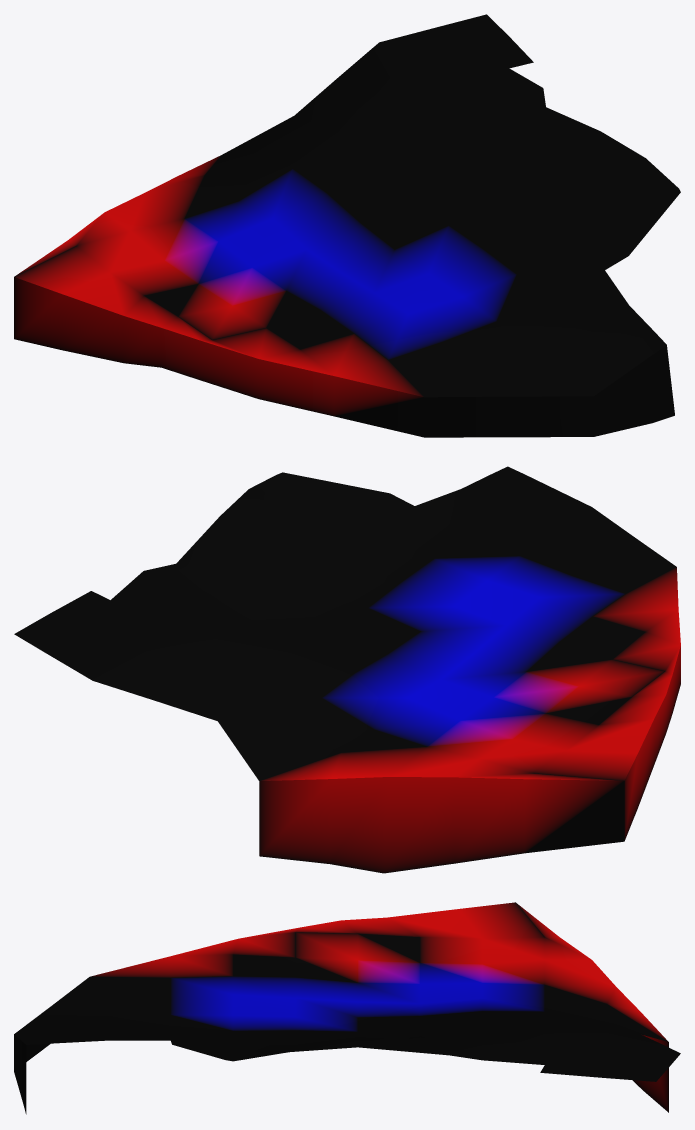
Rendered from Ground_Z1.FBX.
The picture shows the model from 3 angles, top to bottom: view 1: azimuth 30°, elevation 25°; view 2: azimuth 150°, elevation 25°; view 3: azimuth 270°, elevation 25°; orthographic projection. The views are drawn at different scales.
Visible parts, largest first — view 1: Plane001; view 2: Plane001; view 3: Plane001.
Boxes of the visible parts, x1,y1,x2,y2 form: Plane001: (14, 14, 680, 437); Plane001: (14, 466, 680, 873); Plane001: (14, 902, 680, 1114).
Size of the model in its own units: 3001 by 954 by 3439.
